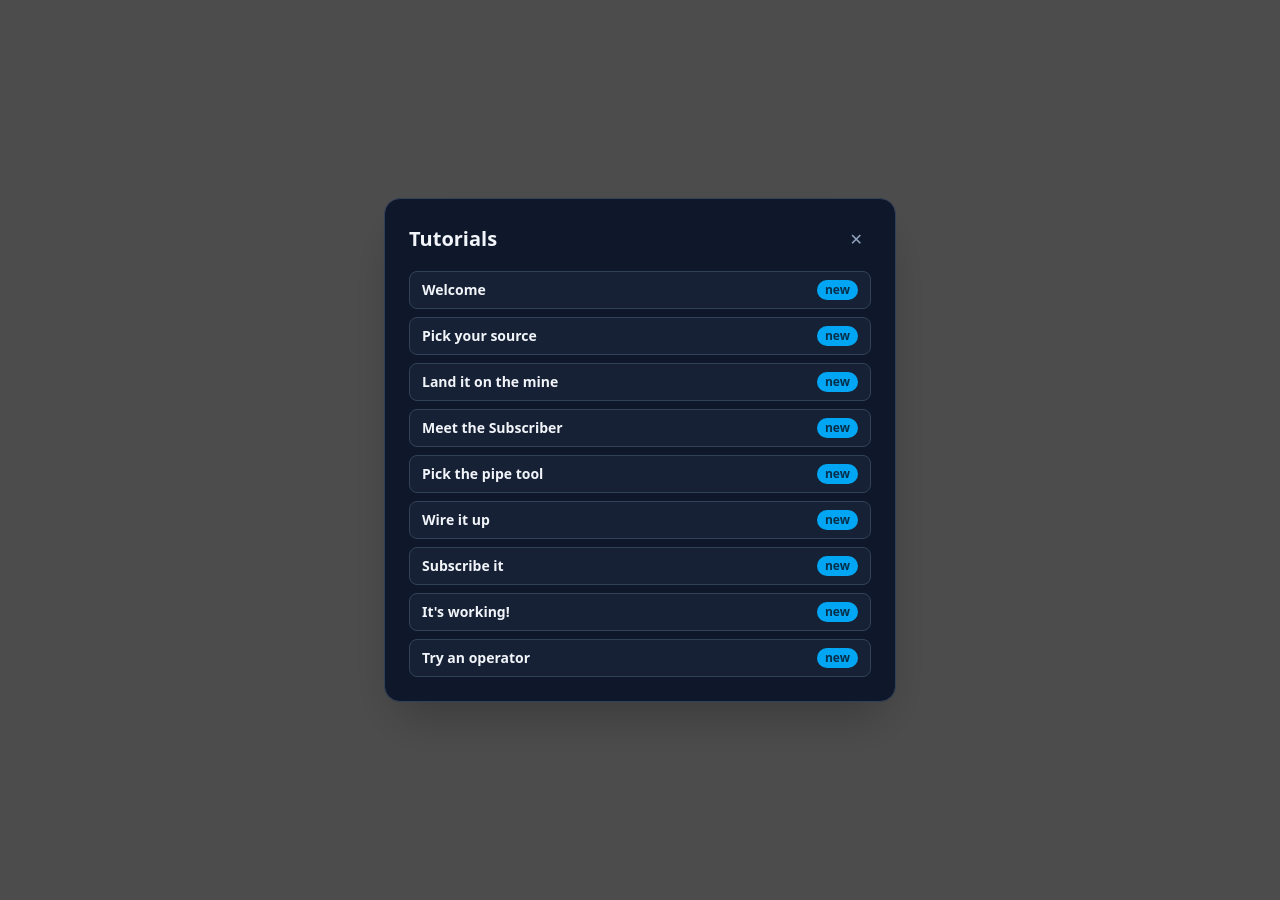
Test: TutorialLogComponent › expanding an entry shows its body and marks it seen
The image size is (1280, 900).
Click the button "Welcome new".
click(454, 290)  # box x1=410 y1=272 x2=870 y2=308
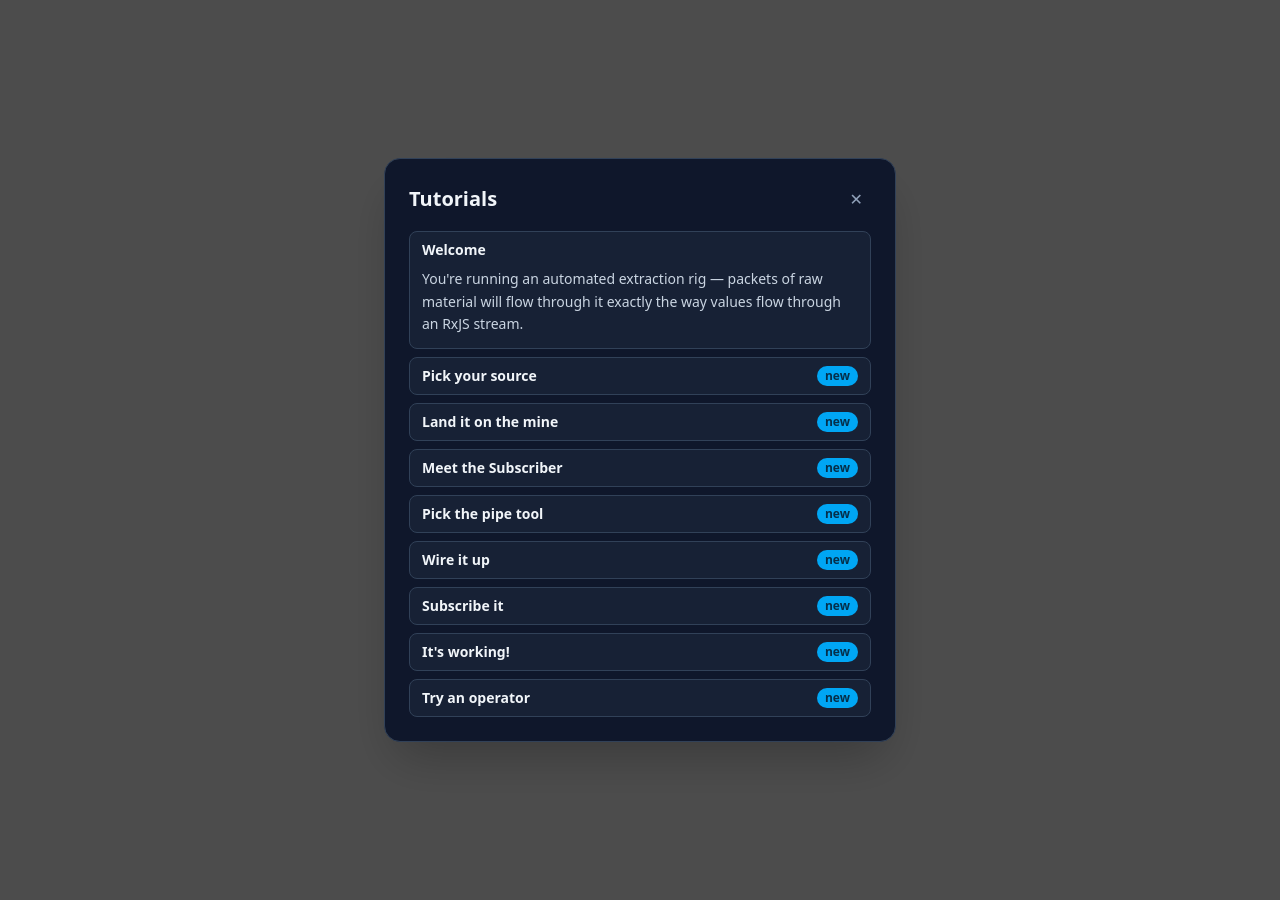
expect the text "automated extraction rig" is shown: met, box x1=422 y1=269 x2=841 y2=333
